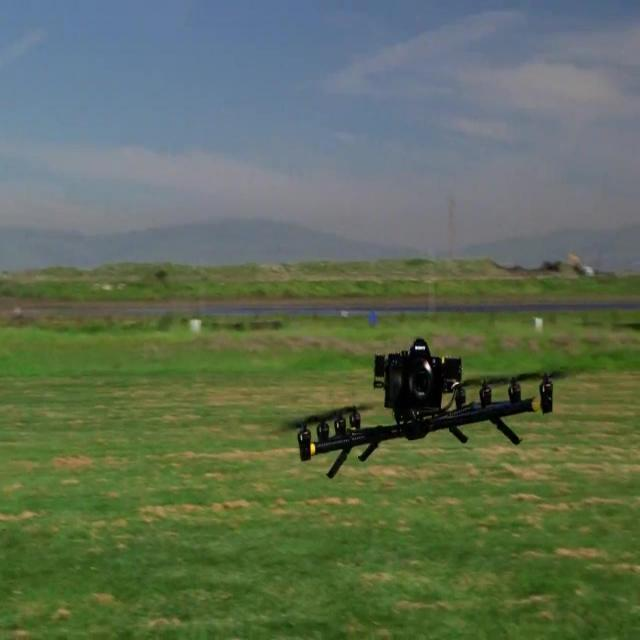UAV: (275, 339, 577, 478)
